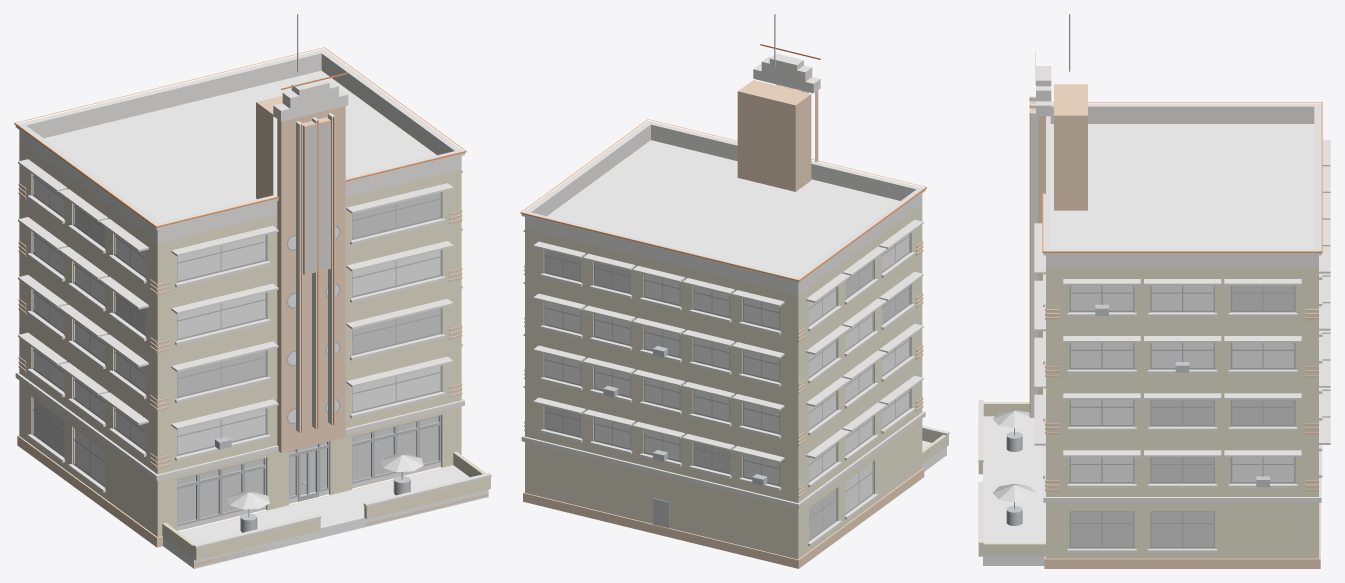
File: deco_w66f4.glb
3 views of the same model, side by side, from view 1: azimuth 30°, elevation 25°; view 2: azimuth 150°, elevation 25°; view 3: azimuth 270°, elevation 25° (orthographic). The views are drawn at different scales.
Parts seen in each view (by area): view 1: deco_w66f4_Walls, deco_w66f4_Trim, deco_w66f4_Roof, deco_w66f4_Accent, deco_w66f4_Glass, deco_w66f4_WindowsLit, deco_w66f4_Frames, deco_w66f4_Walls2, deco_w66f4_Neon, deco_w66f4_Brand, deco_w66f4_Awning, deco_w66f4_Details; view 2: deco_w66f4_Walls, deco_w66f4_Trim, deco_w66f4_Roof, deco_w66f4_Glass, deco_w66f4_Accent, deco_w66f4_Frames, deco_w66f4_WindowsLit, deco_w66f4_Neon, deco_w66f4_Details; view 3: deco_w66f4_Walls, deco_w66f4_Trim, deco_w66f4_Roof, deco_w66f4_Glass, deco_w66f4_WindowsLit, deco_w66f4_Accent, deco_w66f4_Walls2, deco_w66f4_Frames, deco_w66f4_Neon, deco_w66f4_Details, deco_w66f4_Awning.
Part boxes in pixels (x1=…): deco_w66f4_Walls: x1=19, y1=142, x2=490, y2=560; deco_w66f4_Trim: x1=15, y1=49, x2=491, y2=548; deco_w66f4_Roof: x1=44, y1=70, x2=436, y2=222; deco_w66f4_Accent: x1=17, y1=95, x2=488, y2=567; deco_w66f4_Glass: x1=34, y1=175, x2=440, y2=485; deco_w66f4_WindowsLit: x1=34, y1=192, x2=440, y2=523; deco_w66f4_Frames: x1=32, y1=174, x2=441, y2=526; deco_w66f4_Walls2: x1=163, y1=465, x2=488, y2=568; deco_w66f4_Neon: x1=14, y1=47, x2=466, y2=432; deco_w66f4_Brand: x1=306, y1=123, x2=328, y2=272; deco_w66f4_Awning: x1=227, y1=454, x2=423, y2=509; deco_w66f4_Details: x1=215, y1=14, x2=410, y2=532; deco_w66f4_Walls: x1=525, y1=205, x2=948, y2=559; deco_w66f4_Trim: x1=521, y1=53, x2=949, y2=546; deco_w66f4_Roof: x1=547, y1=140, x2=900, y2=276; deco_w66f4_Glass: x1=545, y1=234, x2=909, y2=512; deco_w66f4_Accent: x1=523, y1=80, x2=924, y2=568; deco_w66f4_Frames: x1=544, y1=233, x2=910, y2=541; deco_w66f4_WindowsLit: x1=545, y1=250, x2=909, y2=539; deco_w66f4_Neon: x1=520, y1=44, x2=926, y2=281; deco_w66f4_Details: x1=603, y1=14, x2=775, y2=528; deco_w66f4_Walls: x1=978, y1=268, x2=1318, y2=558; deco_w66f4_Trim: x1=978, y1=66, x2=1330, y2=552; deco_w66f4_Roof: x1=1050, y1=124, x2=1314, y2=249; deco_w66f4_Glass: x1=1071, y1=285, x2=1293, y2=481; deco_w66f4_WindowsLit: x1=1071, y1=285, x2=1293, y2=546; deco_w66f4_Accent: x1=1029, y1=84, x2=1320, y2=568; deco_w66f4_Walls2: x1=983, y1=416, x2=1045, y2=565; deco_w66f4_Frames: x1=1069, y1=285, x2=1295, y2=548; deco_w66f4_Neon: x1=1029, y1=51, x2=1322, y2=416; deco_w66f4_Details: x1=1006, y1=14, x2=1269, y2=525; deco_w66f4_Awning: x1=993, y1=409, x2=1035, y2=502.
Size of the model in its own units: 70.4 by 101 by 67.1.
